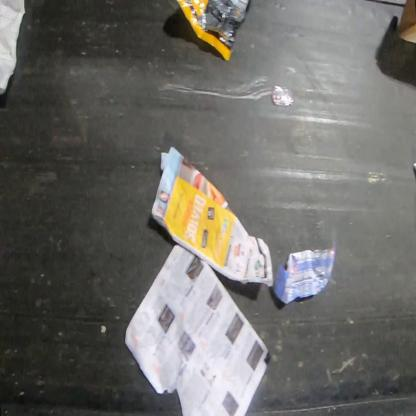cardboard: (151, 145, 274, 288), (397, 0, 415, 85)
soft_plastic: (174, 0, 249, 61), (270, 240, 337, 305)
